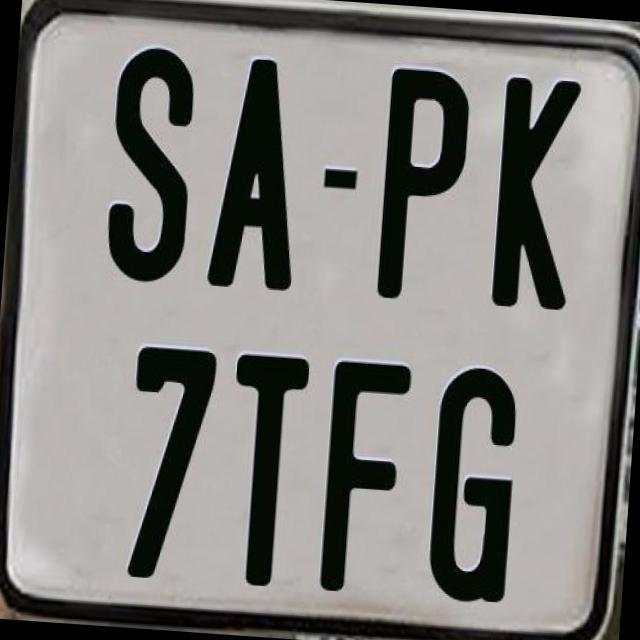7: (117, 343, 219, 581)
A: (205, 52, 305, 286)
F: (319, 354, 415, 594)
G: (426, 365, 520, 604)
K: (488, 72, 587, 310)
P: (372, 63, 468, 302)
S: (100, 41, 194, 281)
T: (220, 348, 316, 588)
